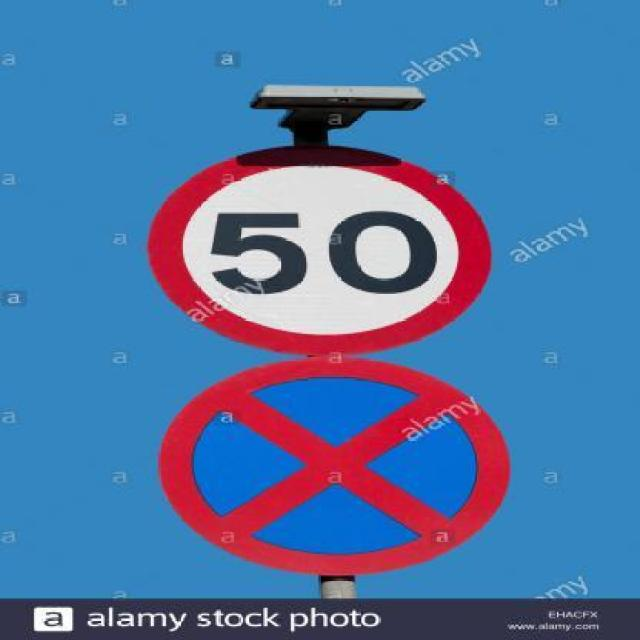Speed limit 50: (146, 141, 495, 356)
